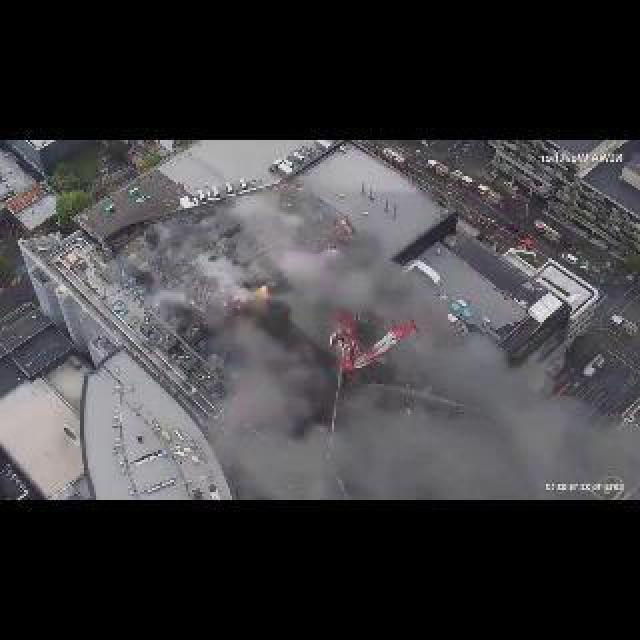Fire: (342, 218, 352, 234), (262, 282, 270, 298)
Smoke: (203, 199, 632, 505)
